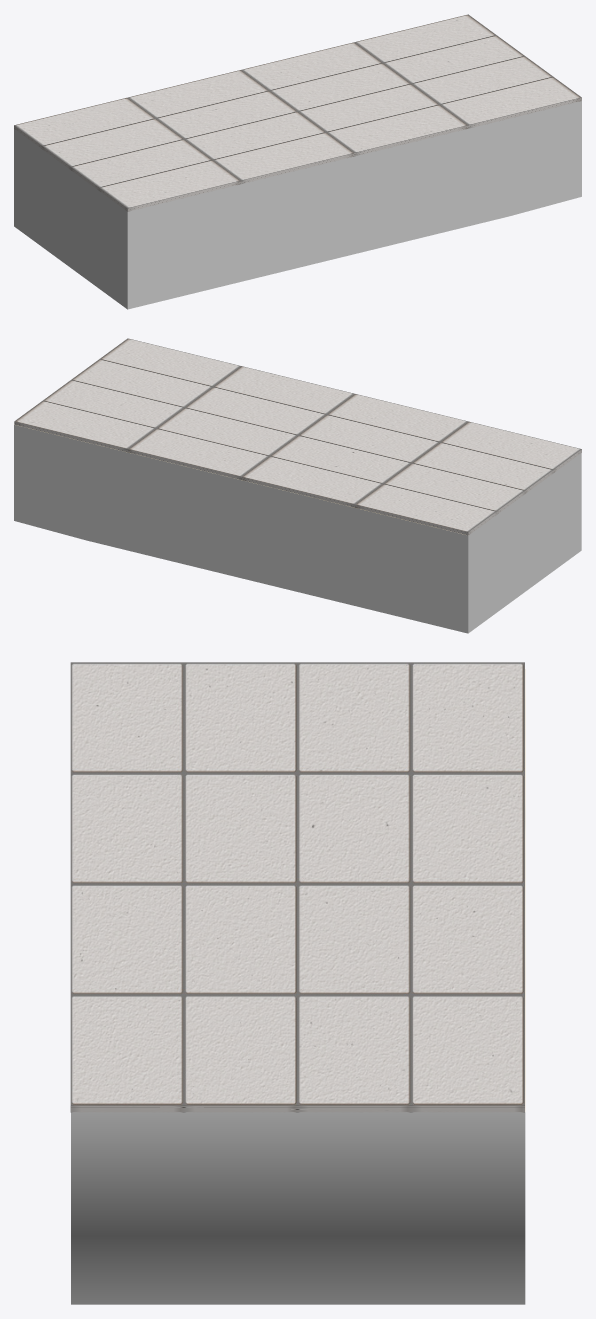
File: AulaTerminada.fbx
The picture shows the model from 3 angles, top to bottom: view 1: azimuth 30°, elevation 25°; view 2: azimuth 150°, elevation 25°; view 3: azimuth 270°, elevation 25°; orthographic projection. The views are drawn at different scales.
Visible parts, largest first — view 1: Cube.001, Cube; view 2: Cube.001, Cube; view 3: Cube, Cube.001.
Boxes of the visible parts, x1,y1,x2,y2 form: Cube.001: (14,101,581,309); Cube: (14,14,581,211); Cube.001: (14,424,581,633); Cube: (14,338,581,535); Cube: (70,662,524,1112); Cube.001: (71,669,525,1304).
Bounding box in the file's own units: 2745 × 585 × 1190.
